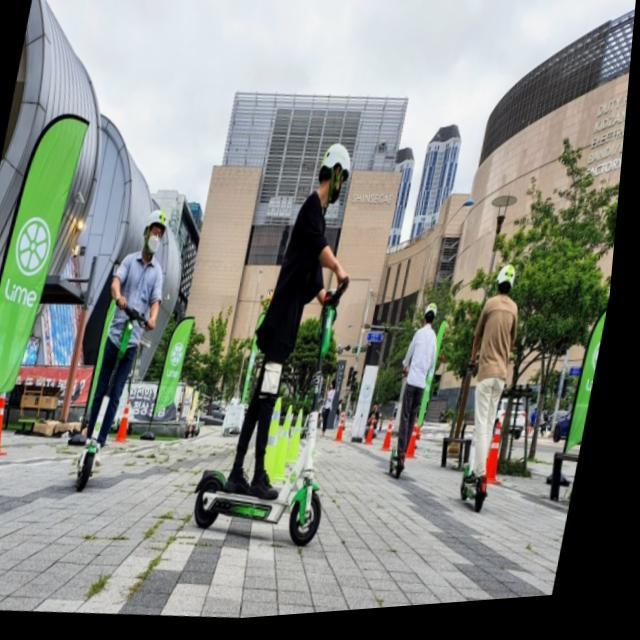Helmet: (133, 197, 177, 265), (313, 140, 354, 208)
